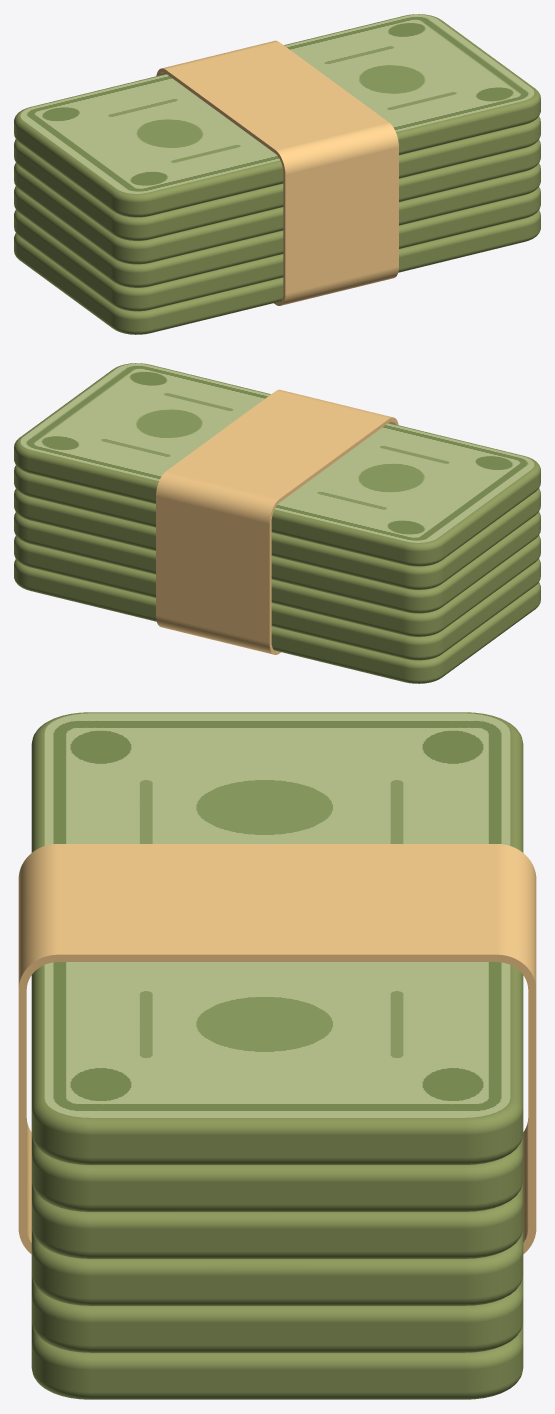
The model's file is Bundle.glb.
3 renders of one model, top to bottom at view 1: azimuth 30°, elevation 25°; view 2: azimuth 150°, elevation 25°; view 3: azimuth 270°, elevation 25°, orthographic. The views are drawn at different scales.
Parts seen in each view (by area): view 1: Bundle; view 2: Bundle; view 3: Bundle.
Part boxes in pixels (left/top/right/bottom): Bundle: left=14, top=14, right=540, bottom=334; Bundle: left=14, top=363, right=540, bottom=683; Bundle: left=18, top=712, right=536, bottom=1399.
Bounding box in the file's own units: 0.3 × 0.104 × 0.158.
Materials: 1 (1 with a texture image).
